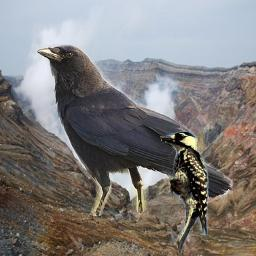Crow: (34, 44, 233, 216)
Woodpecker: (159, 131, 211, 254)
